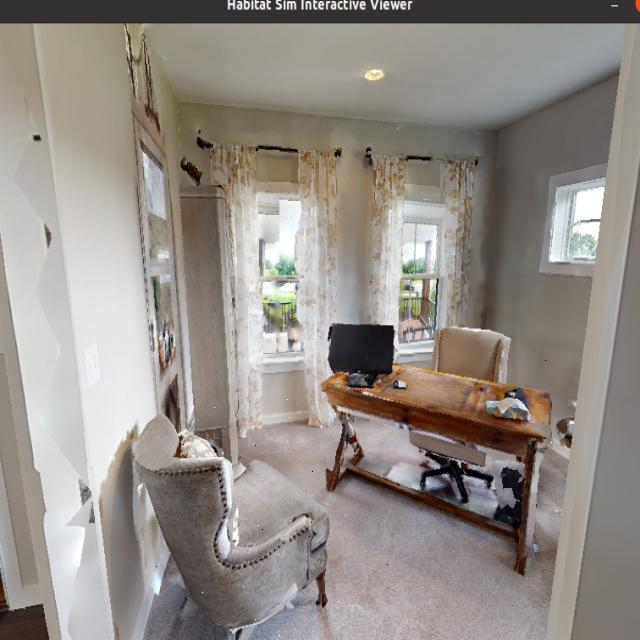chair: (414, 316, 504, 548)
sofa: (135, 391, 351, 640)
table: (313, 336, 561, 586)
